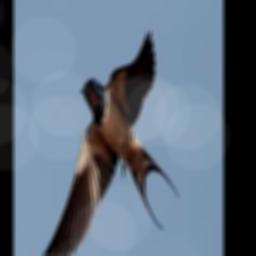Swallow: (41, 29, 177, 256)
